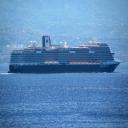cruises: (8, 36, 123, 76)
